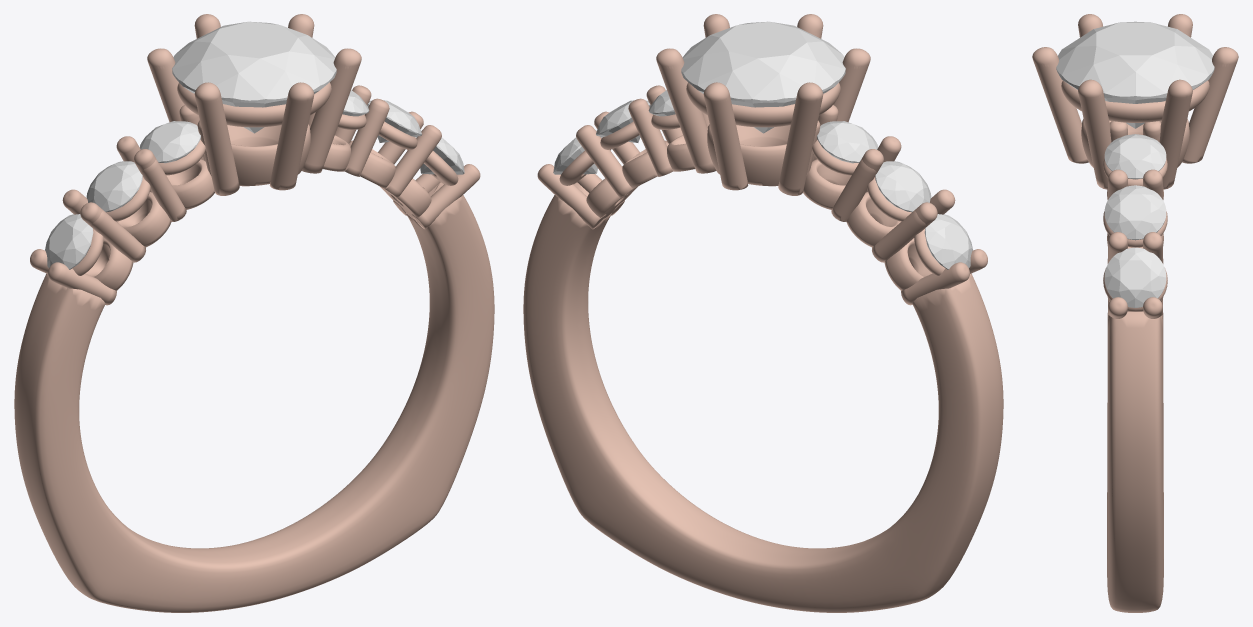
File: diamond-round-rosegold-6prong-europeanshank-3stone.glb
3 views of the same model, side by side, from view 1: azimuth 30°, elevation 25°; view 2: azimuth 150°, elevation 25°; view 3: azimuth 270°, elevation 25° (orthographic). The views are drawn at different scales.
Parts seen in each view (by area): view 1: metal, stone, side, side.001, side.002, side.004, side.005; view 2: metal, stone, side, side.001, side.002, side.004, side.005; view 3: metal, stone, side.005, side.004, side.003.
Boxes of the visible parts, x1=… form: metal: x1=14, y1=14, x2=494, y2=612; stone: x1=172, y1=21, x2=336, y2=133; side: x1=86, y1=161, x2=142, y2=212; side.001: x1=45, y1=214, x2=93, y2=269; side.002: x1=140, y1=121, x2=200, y2=163; side.004: x1=367, y1=100, x2=421, y2=142; side.005: x1=416, y1=130, x2=464, y2=174; metal: x1=523, y1=14, x2=1003, y2=612; stone: x1=681, y1=21, x2=845, y2=133; side: x1=875, y1=161, x2=931, y2=212; side.001: x1=924, y1=214, x2=972, y2=269; side.002: x1=817, y1=121, x2=877, y2=163; side.004: x1=596, y1=100, x2=650, y2=142; side.005: x1=553, y1=130, x2=601, y2=174; metal: x1=1032, y1=14, x2=1238, y2=612; stone: x1=1056, y1=21, x2=1214, y2=128; side.005: x1=1104, y1=247, x2=1166, y2=307; side.004: x1=1104, y1=185, x2=1166, y2=240; side.003: x1=1104, y1=134, x2=1166, y2=179.
Size of the model in its own units: 20.71 by 23.81 by 8.33.
